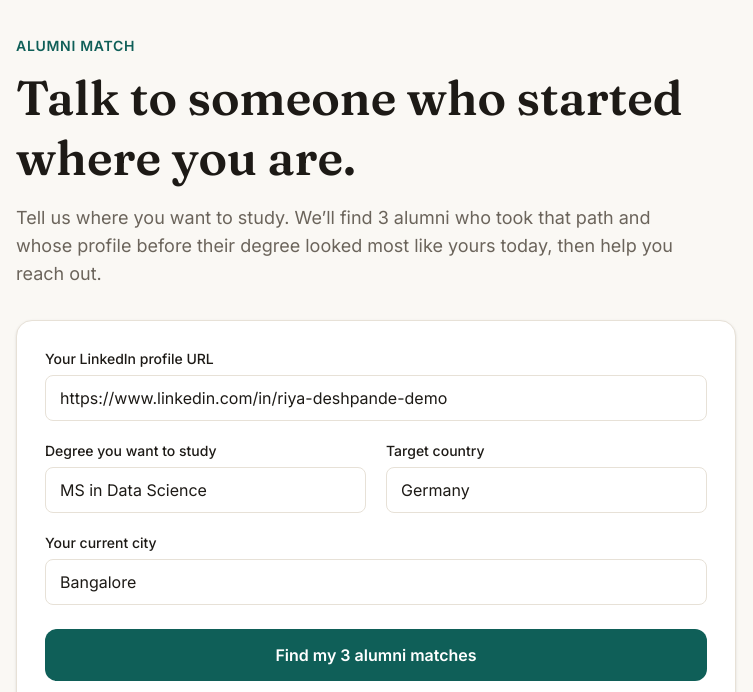
Scenario: limited and empty states › no matching alumni: shows the empty state and no cards
Replace the text in the field labelled "Degree you want to study" with "MS in Marine Biology": (206, 490) [45, 467, 366, 513]
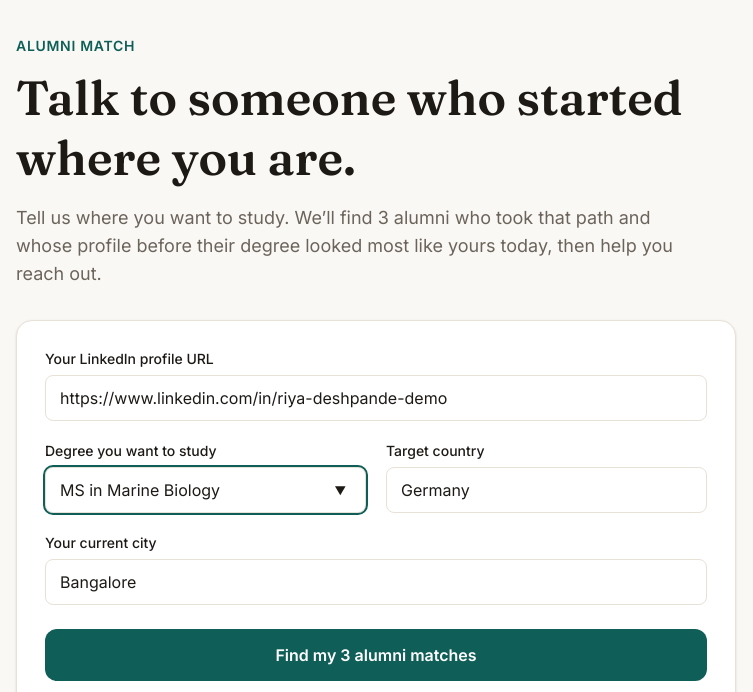
Click the button "Find my 3 alumni matches": (376, 655) [45, 629, 707, 681]
(page scrolled)
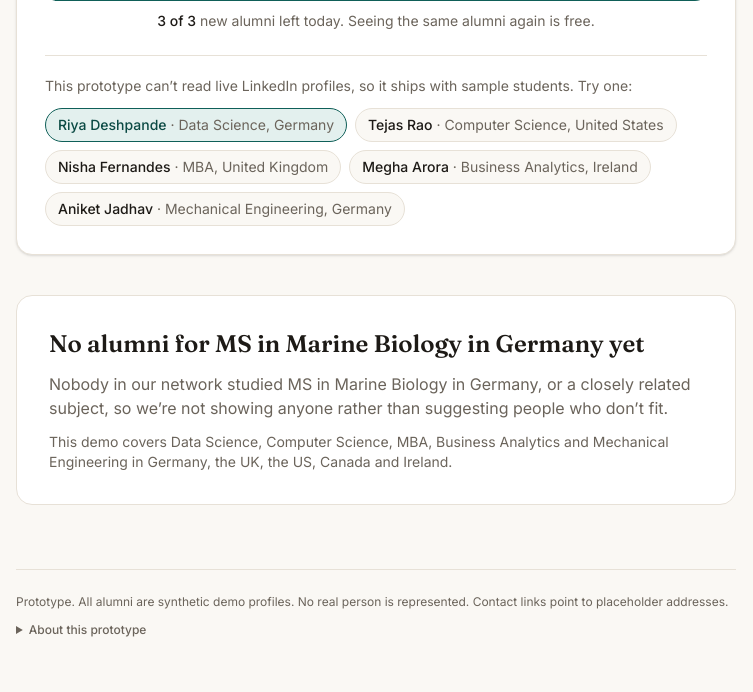
Result: the heading "No alumni for MS in Marine Biology in Germany yet" is shown at [49, 328, 703, 360]
